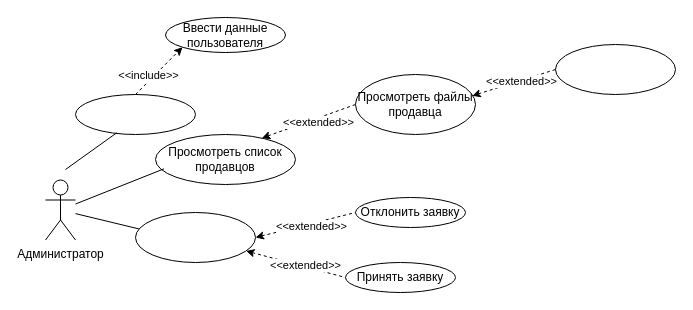
The diagram is 693 pixels wide and 310 high, and some of its shapes have lost their labels. The centre of each missing label's shape, as x and y in pixels:
"Авторизоваться в системе" belongs at point (135, 114).
"Просмотреть очередь модерации" belongs at point (195, 237).
"Удалить файл продавца" belongs at point (615, 69).
